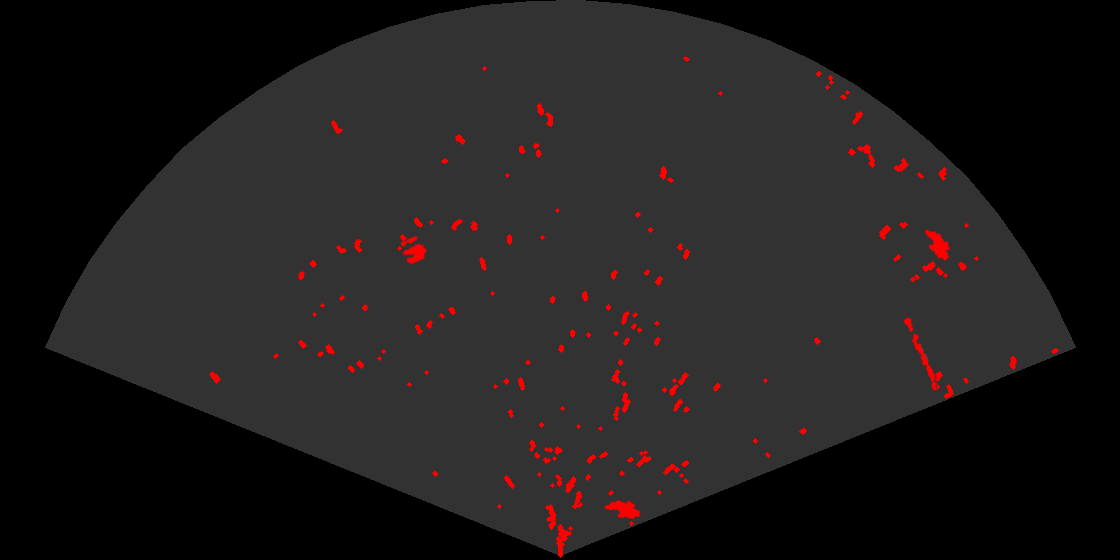AUV: (923, 228, 951, 262), (602, 498, 642, 521)
ball: (399, 234, 429, 266)
chain: (901, 310, 938, 393)
